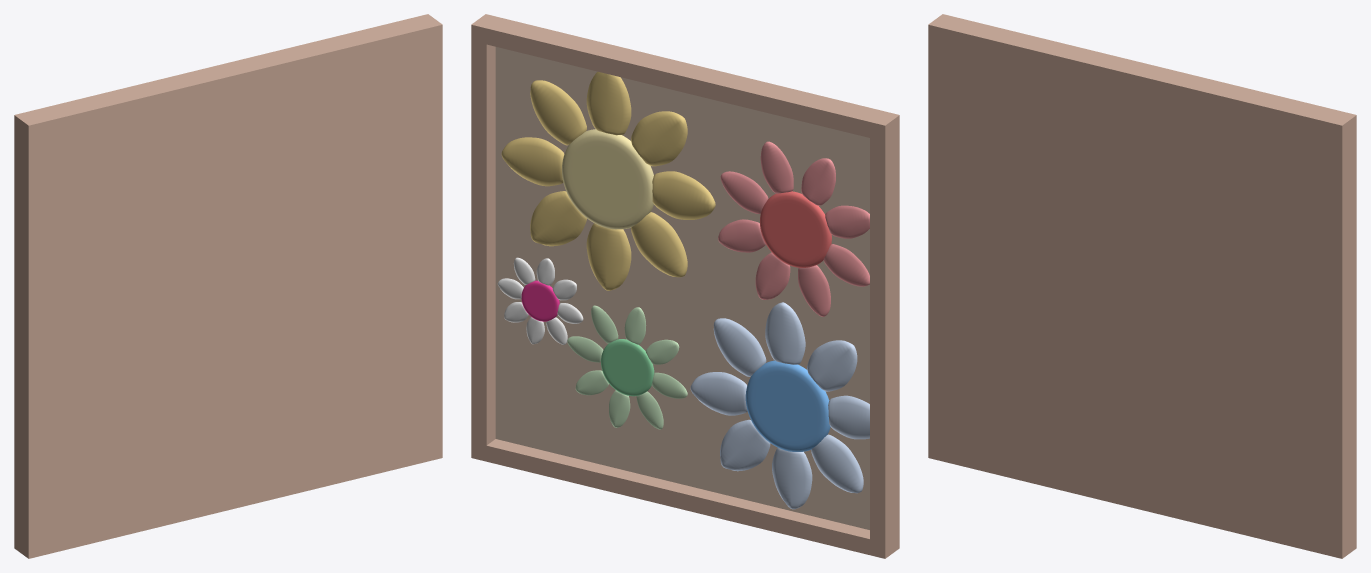
Rendered from PressedFlowerFrame.fbx.
The picture shows the model from 3 angles, left to right: view 1: azimuth 30°, elevation 25°; view 2: azimuth 150°, elevation 25°; view 3: azimuth 330°, elevation 25°; orthographic projection.
Visible parts, largest first — view 1: Frame.002; view 2: Frame.002, Petals.002, Petals.005, Petals.003, Bulb.001, Bulb.004, Petals.004, Bulb.002, Petals.006, Bulb.003, Bulb.005; view 3: Frame.002.
Boxes of the visible parts, x1,y1,x2,y2 form: Frame.002: [14, 14, 442, 558]; Frame.002: [471, 14, 899, 558]; Petals.002: [501, 71, 715, 290]; Petals.005: [690, 302, 869, 509]; Petals.003: [718, 141, 869, 316]; Bulb.001: [562, 129, 653, 229]; Bulb.004: [745, 360, 830, 451]; Petals.004: [567, 305, 687, 429]; Bulb.002: [760, 191, 831, 267]; Petals.006: [497, 257, 583, 344]; Bulb.003: [601, 339, 654, 396]; Bulb.005: [521, 280, 559, 321]; Frame.002: [928, 14, 1356, 558].
Bounding box in the file's own units: 55.87 × 55.87 × 3.41.
